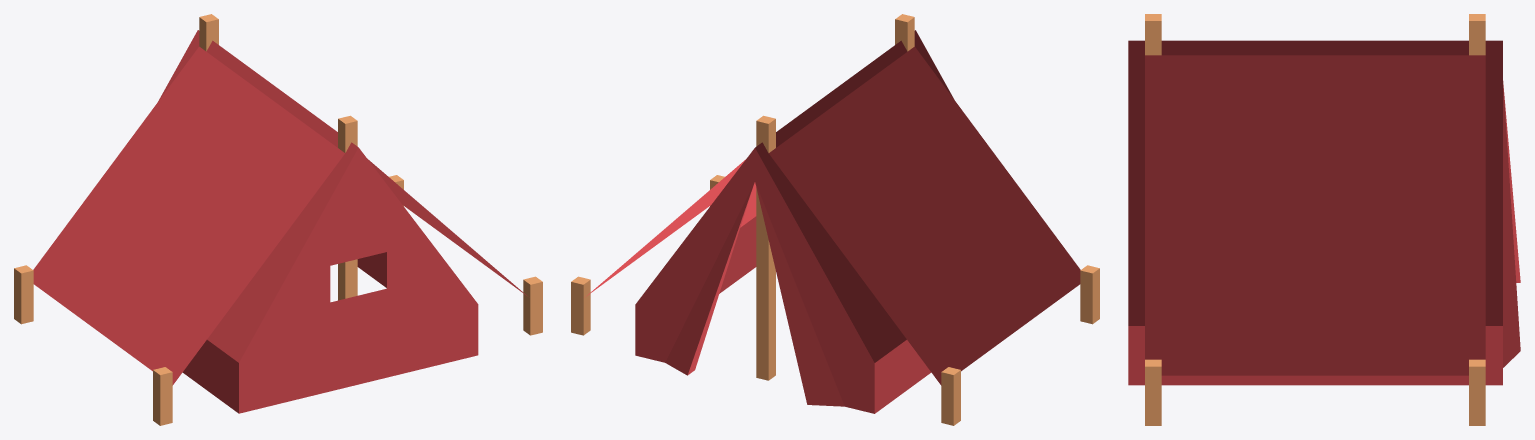
File: tent_detailedOpen.obj
3 views of the same model, side by side, from view 1: azimuth 30°, elevation 25°; view 2: azimuth 150°, elevation 25°; view 3: azimuth 270°, elevation 25° (orthographic). The views are drawn at different scales.
Parts seen in each view (by area): view 1: tent_detailedOpen; view 2: tent_detailedOpen; view 3: tent_detailedOpen.
Part boxes in pixels (box(x1,y1,x2,y2)): tent_detailedOpen: box(14, 14, 542, 425); tent_detailedOpen: box(571, 14, 1099, 425); tent_detailedOpen: box(1128, 14, 1520, 425).
Bounding box in the file's own units: 8.75 × 5.61 × 6.66.
